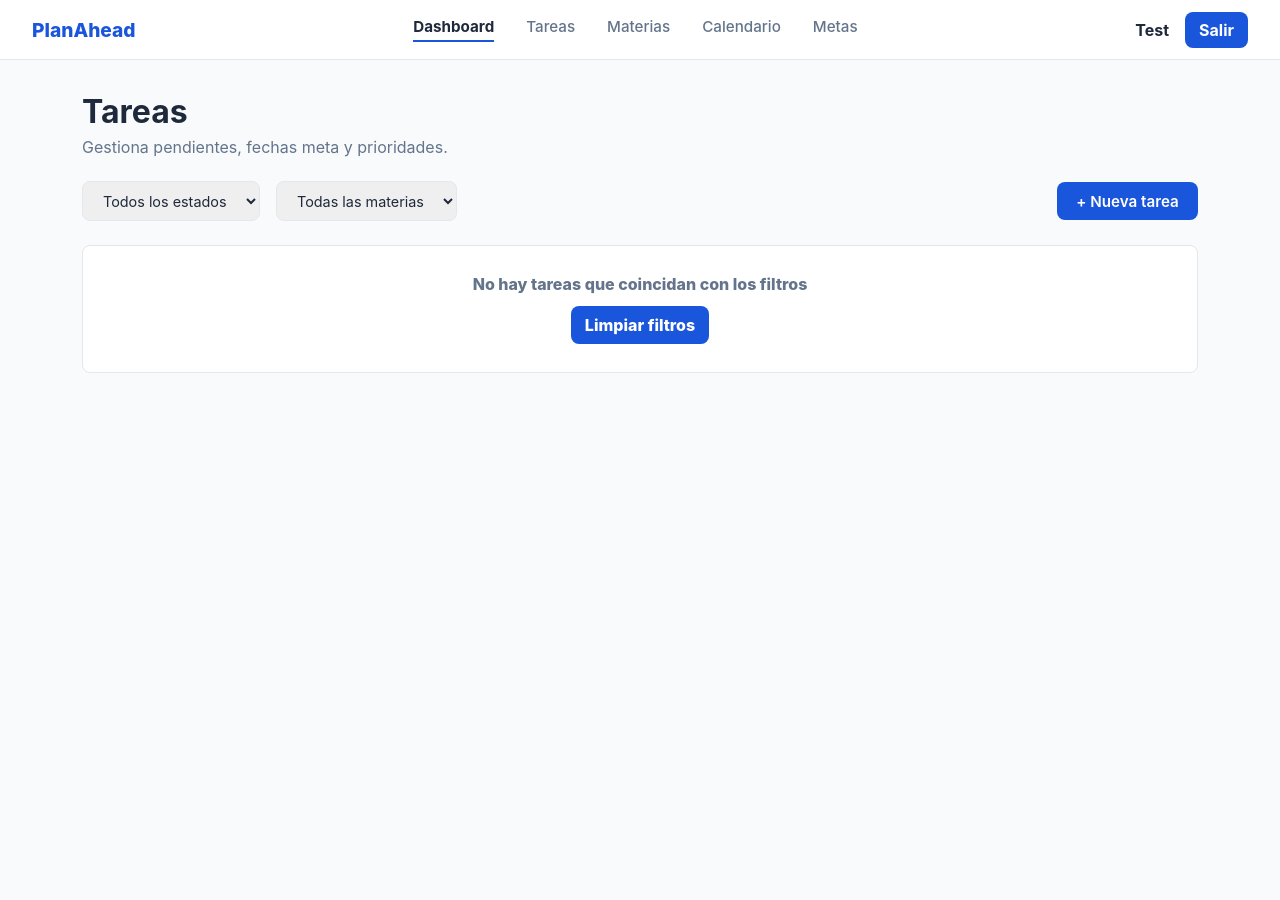
Test case: TareasPage › muestra mensaje de bloqueo cuando no hay materias
What coordinates should you click on to do the following:
click the button "+ Nueva tarea"
I would click on:
 (1128, 201)
Its box is [1057,182,1198,220].
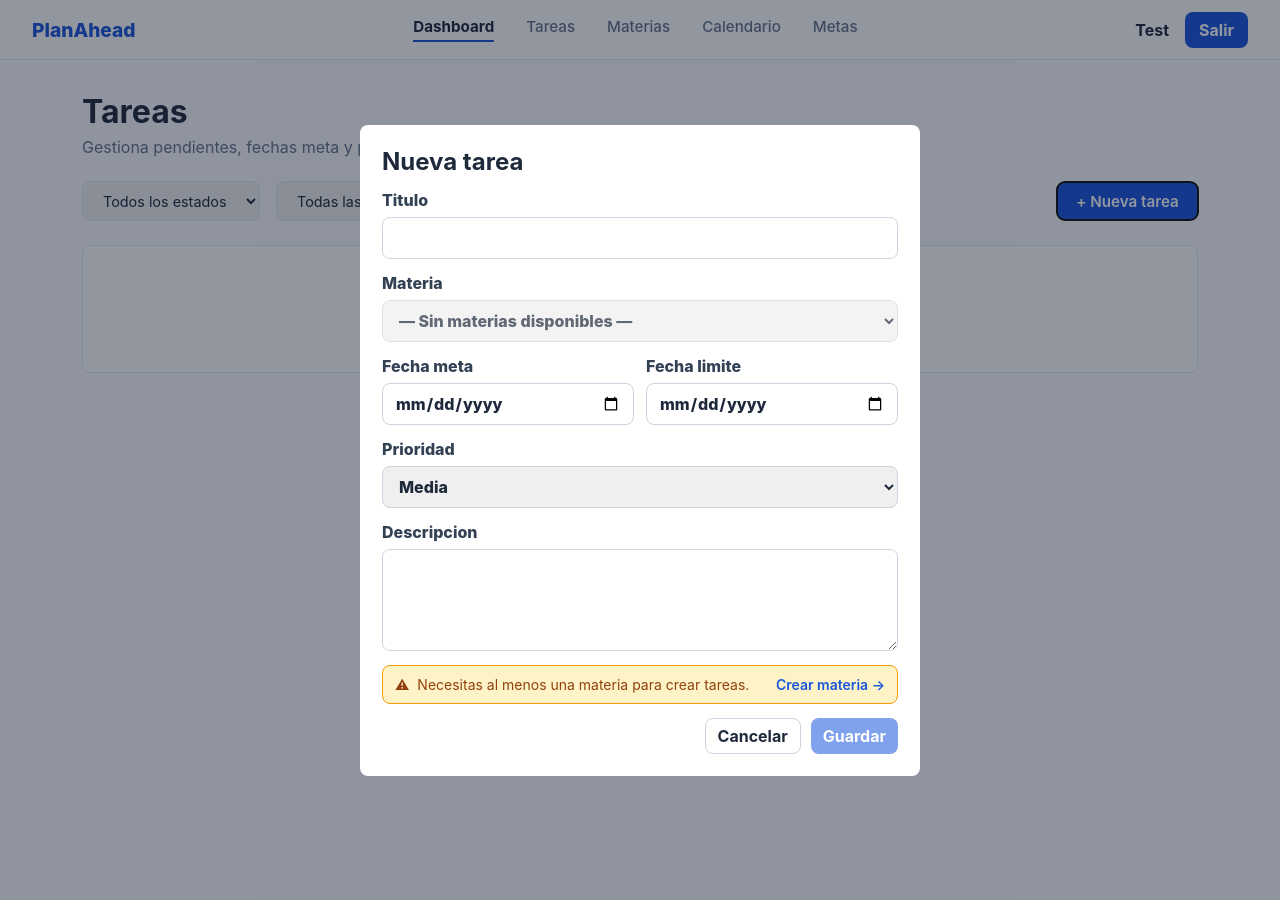
Result: the text "Necesitas al menos una materia para crear tareas." is shown at [417,676,749,692]
Result: the button "Guardar" is disabled at [811,718,898,754]
